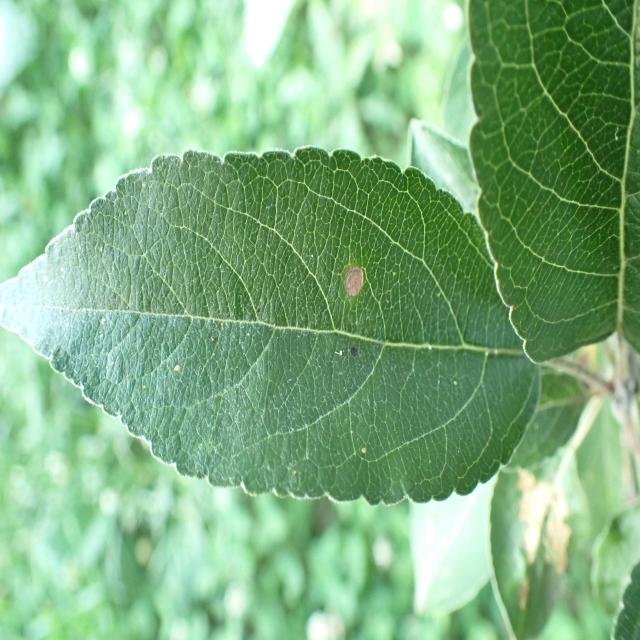frog-eye-leaf-spot: (0, 145, 542, 509)
